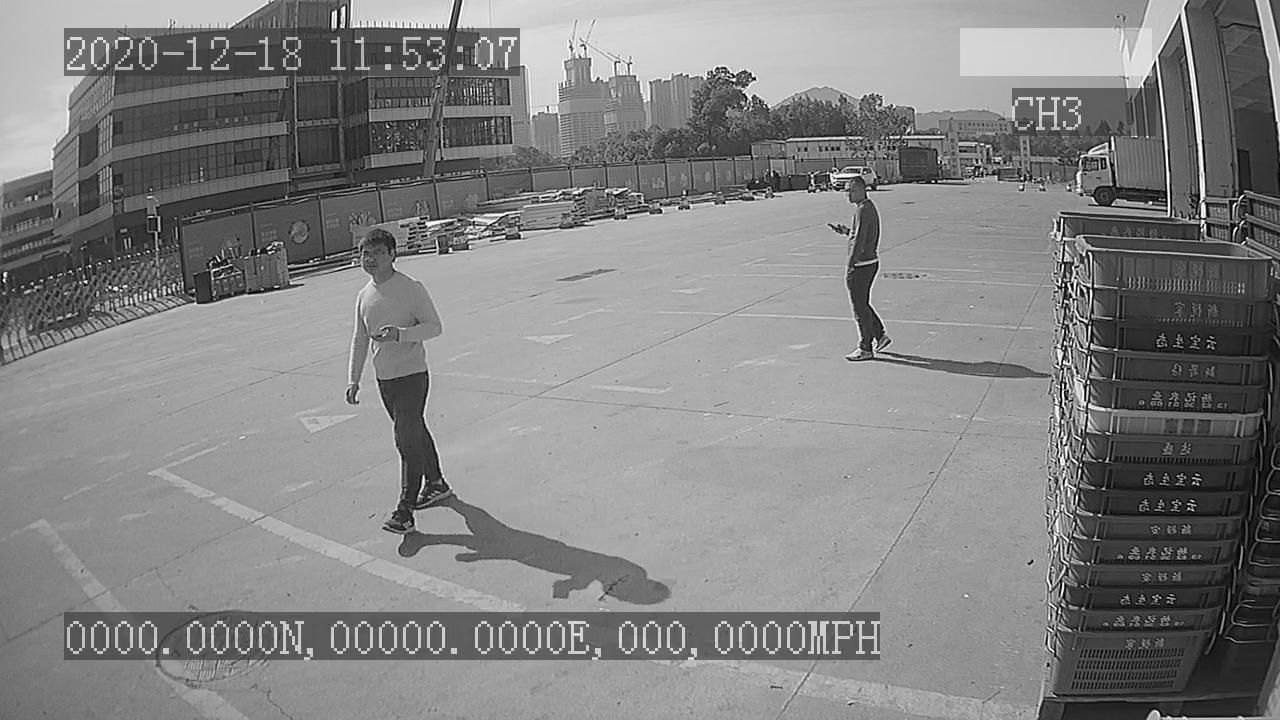person: (331, 226, 454, 547), (822, 174, 895, 365)
